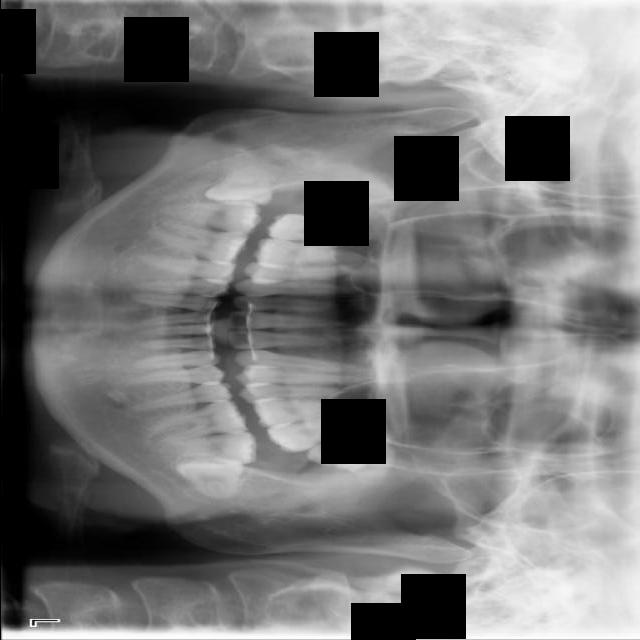73: (37, 592, 55, 600)
BioHorizons Implant: (265, 416, 370, 455)
BioLife Implant: (304, 423, 398, 484)
Biomet 3i Implant: (174, 456, 243, 499)
Blue Sky Bio Implant: (161, 431, 257, 468)
Caries: (264, 213, 364, 242)
Implant: (156, 196, 262, 236)
Keystone Dental Implant: (203, 161, 275, 208)
